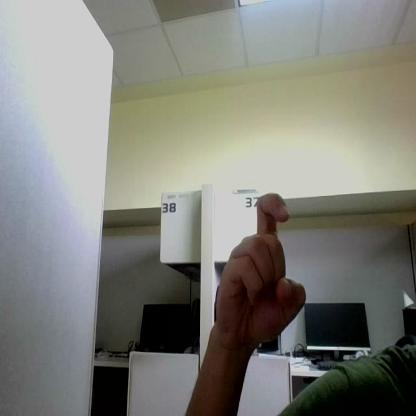X: (216, 193, 307, 342)
